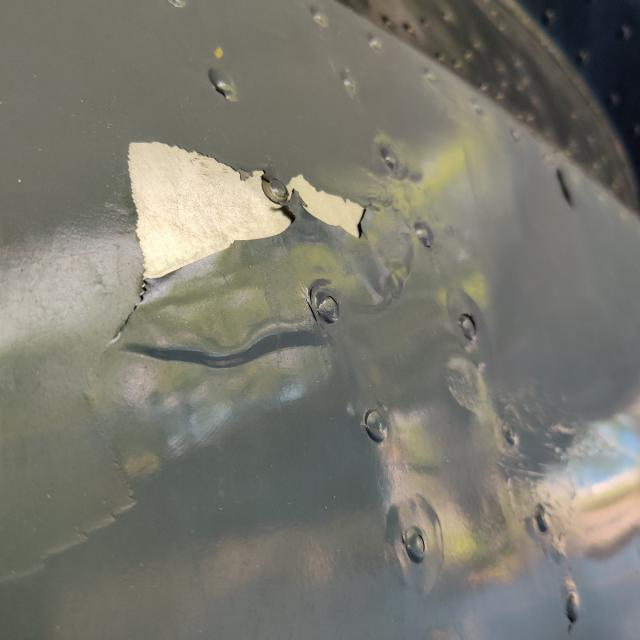paint-off: (77, 132, 435, 384)
